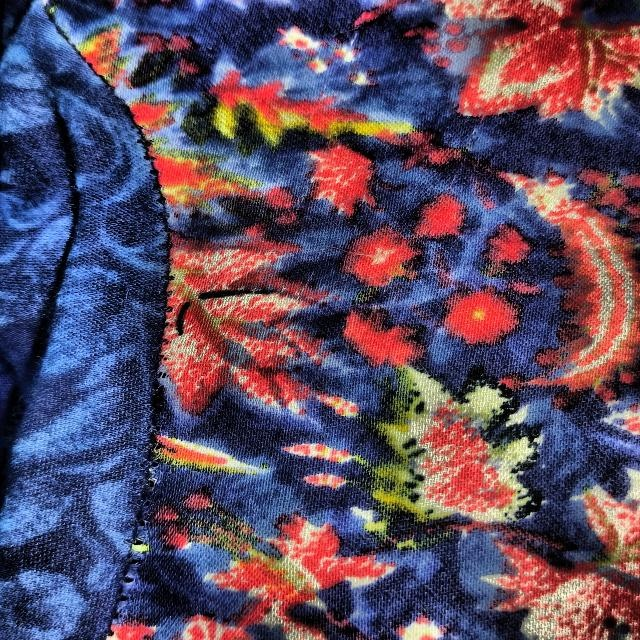Stitch: (435, 342, 584, 539), (65, 421, 200, 638)
